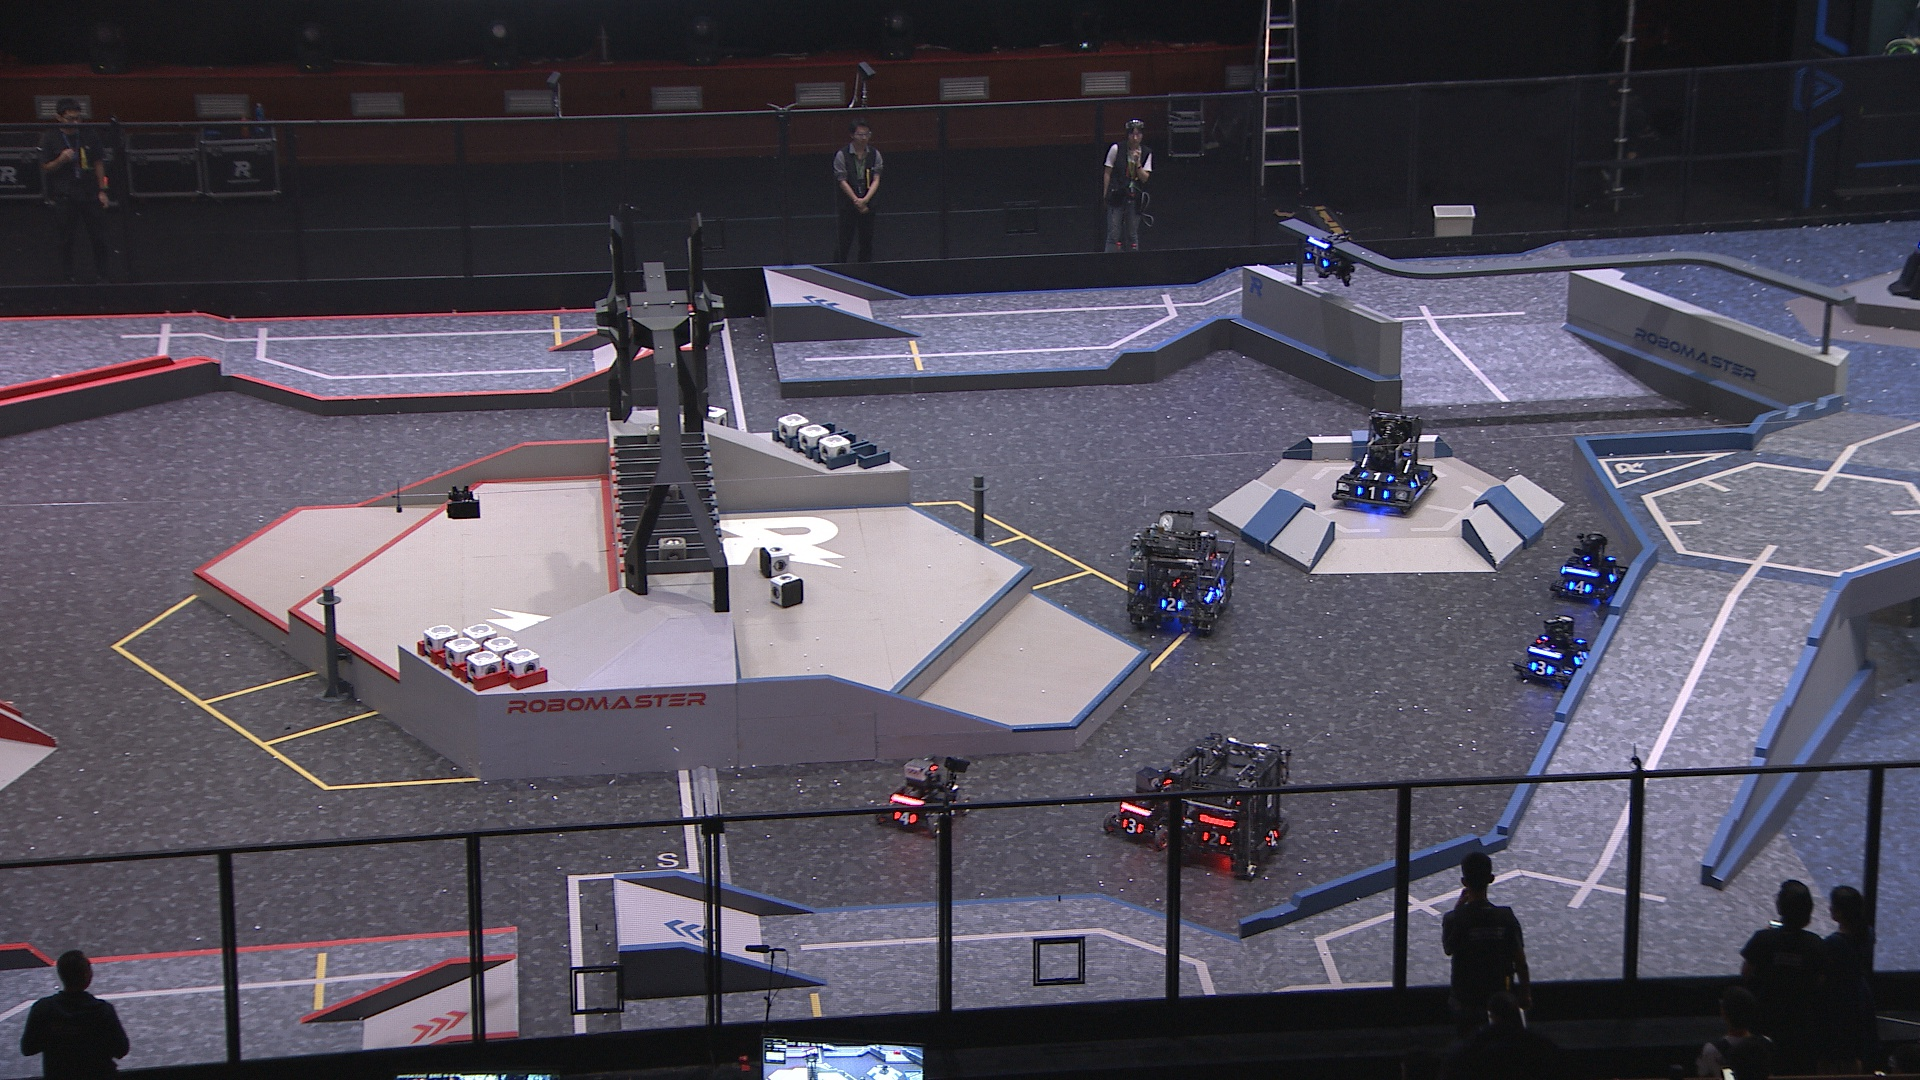armor: (1357, 484, 1391, 502), (1199, 829, 1228, 849), (1155, 595, 1183, 613), (1528, 659, 1556, 678), (891, 808, 920, 825), (1120, 818, 1145, 837), (1357, 469, 1394, 483), (1302, 252, 1332, 268), (1567, 582, 1594, 597), (1572, 650, 1592, 669), (1406, 473, 1424, 491), (1266, 828, 1280, 849), (1607, 567, 1625, 582), (1215, 583, 1226, 600)
car: (1162, 731, 1292, 877), (1126, 509, 1240, 638), (1325, 410, 1437, 514), (1098, 766, 1188, 849), (880, 754, 972, 835), (1516, 617, 1604, 688), (1549, 531, 1633, 603)
watcher: (1298, 229, 1362, 287)
